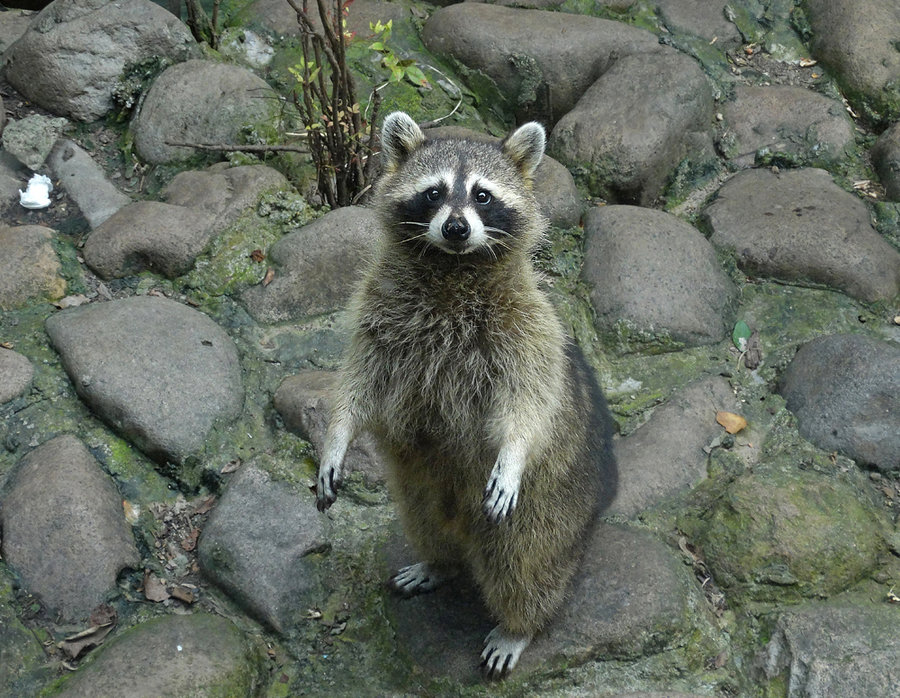raccoon: (307, 107, 624, 681)
